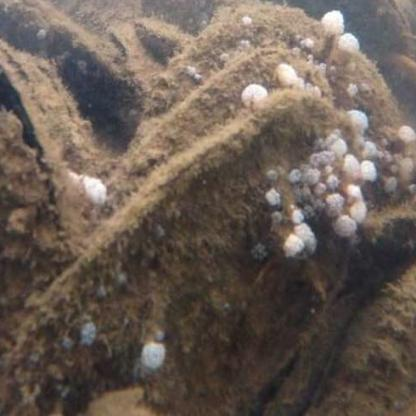Oyster- Indeterminate: (368, 0, 413, 58)
Oyster-Closed: (0, 90, 364, 416), (124, 9, 416, 297), (86, 49, 341, 242), (0, 43, 102, 231), (0, 106, 72, 355), (317, 268, 416, 416), (139, 20, 192, 57)
